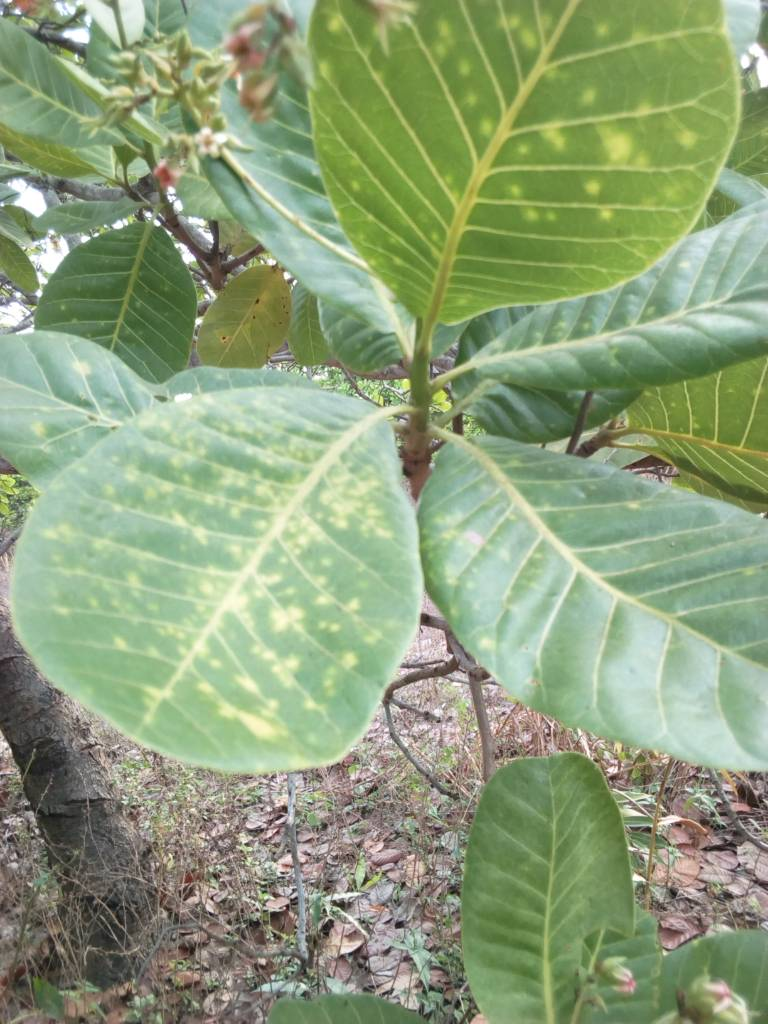Carence minérale: (1, 388, 494, 780), (304, 2, 743, 322), (407, 433, 768, 771)
